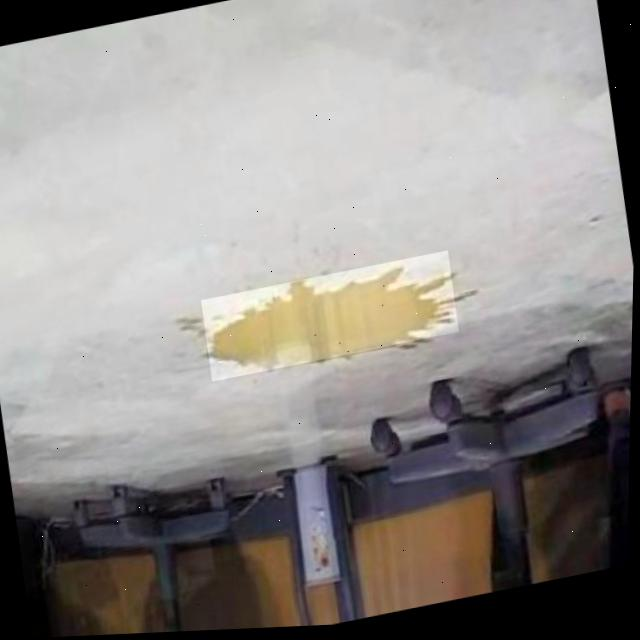spillage: (209, 270, 456, 370)
